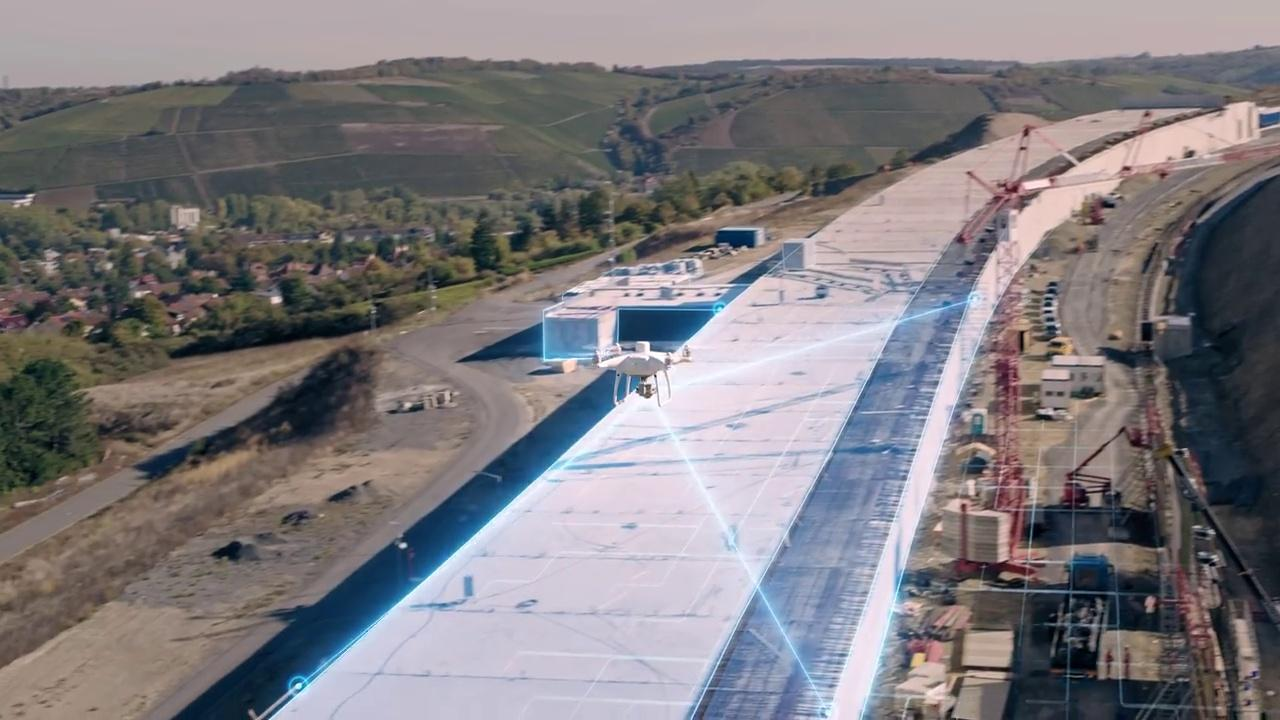drone: (587, 337, 697, 409)
